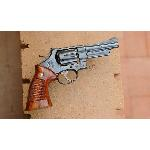Pistol: (13, 38, 122, 110)
